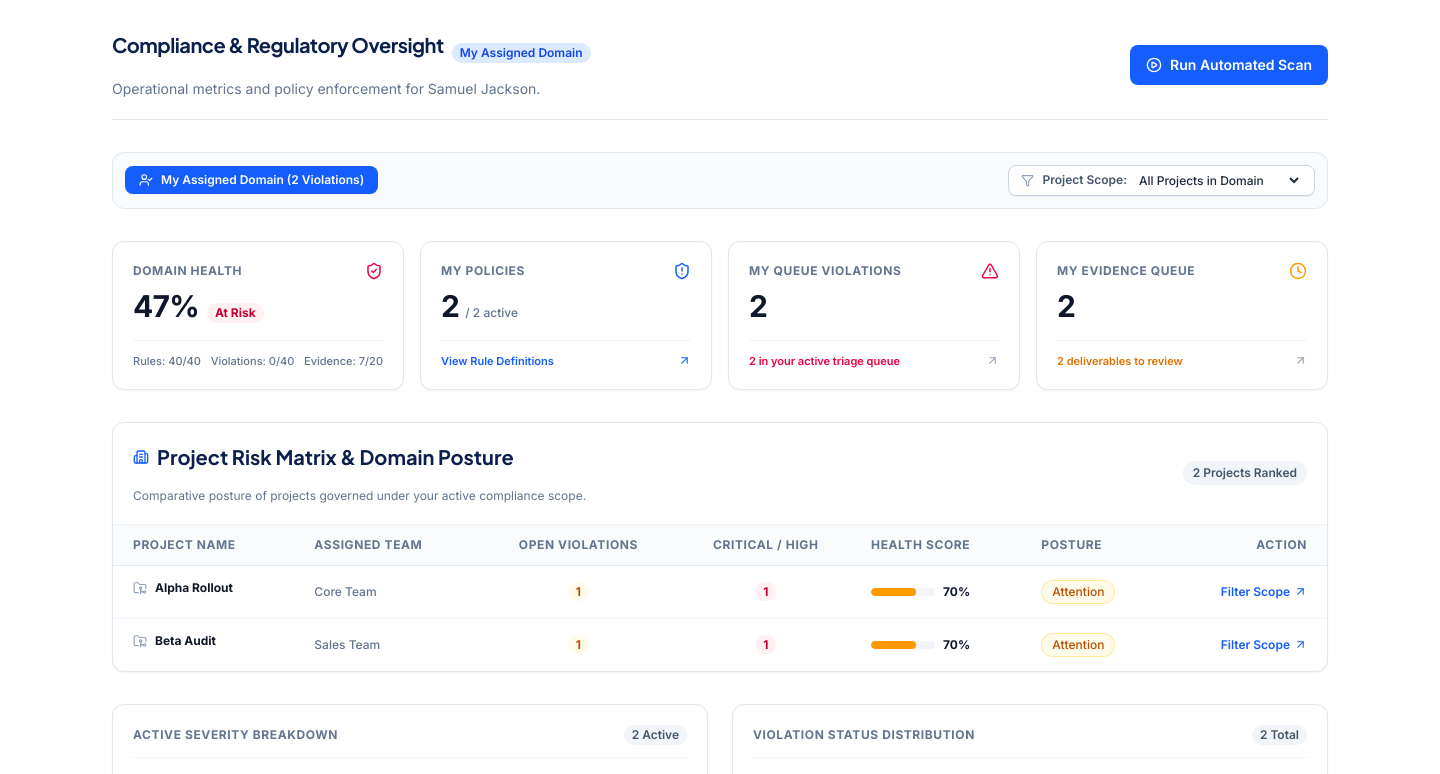
Test: ComplianceDashboard project scoping › toggles Filter Scope / Clear Filter from Project Risk Matrix rows
The width and height of the screenshot is (1440, 774).
Expected: the text "My Policies" is shown, [441,263,525,279]
Click the button "Filter Scope" in the row of "Alpha Rollout".
click(1264, 592)  # box [1221,584,1307,600]
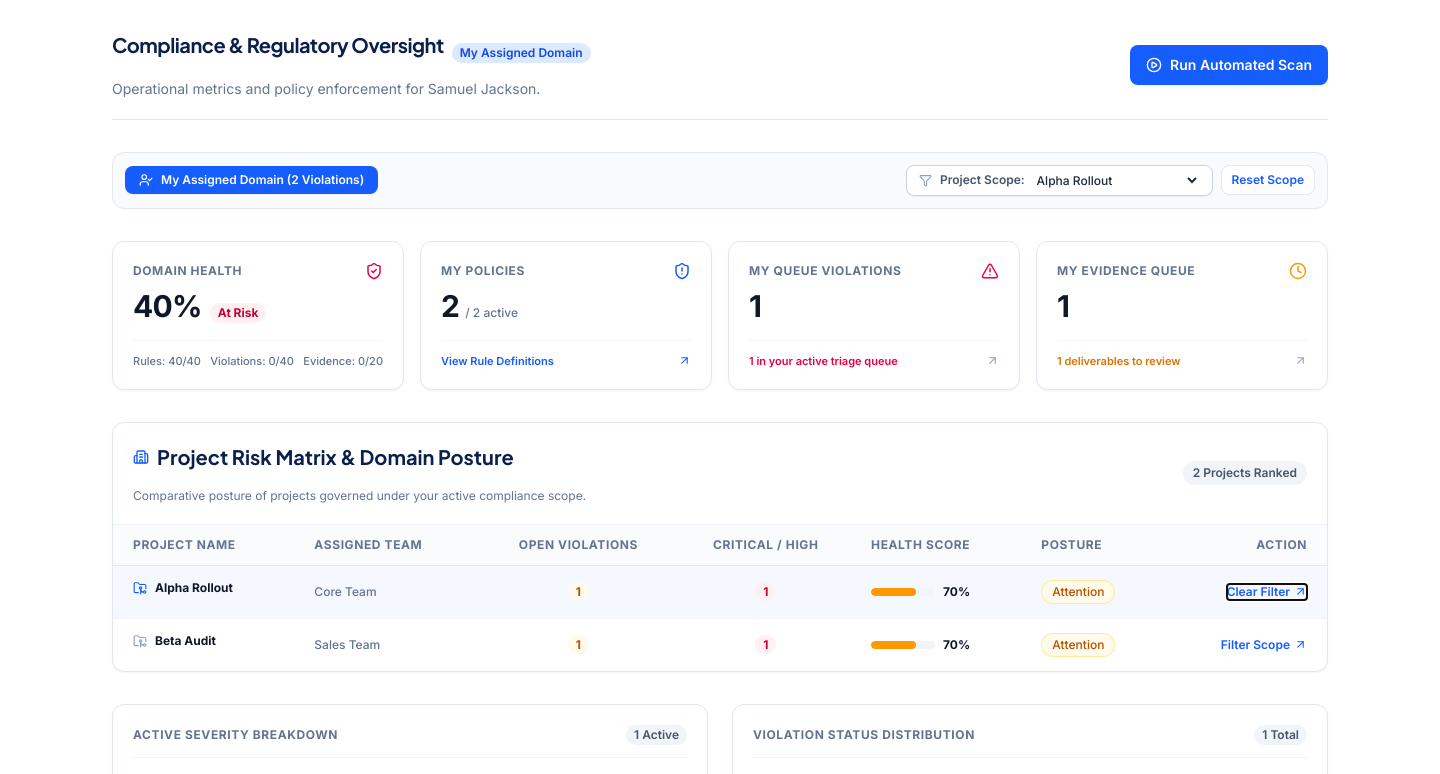
Expected: the button "Clear Filter" is shown
Click the button "Clear Filter".
click(1267, 592)  # box [1227,584,1307,600]
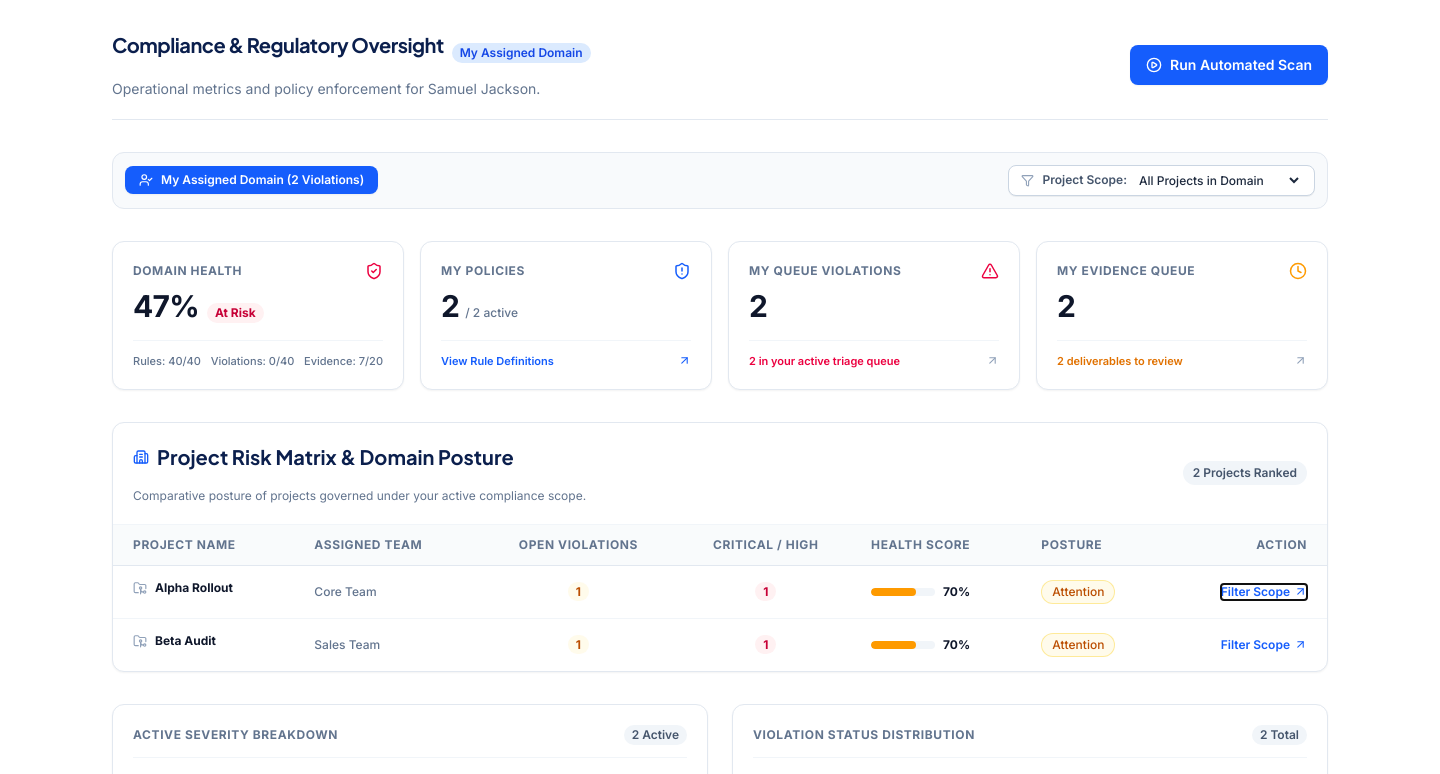
Expected: the button "Clear Filter" is gone
